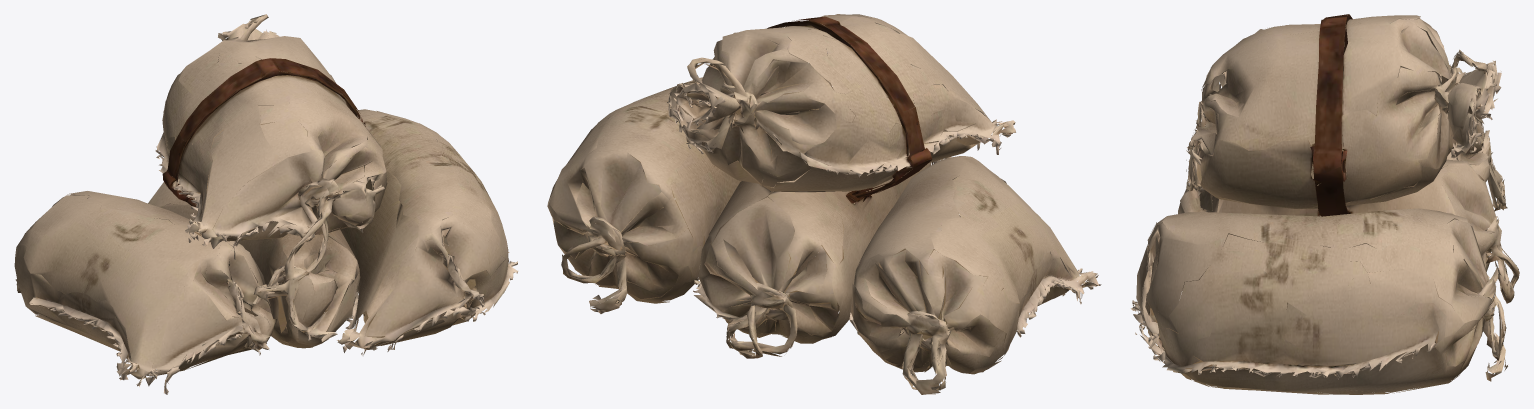
File: sacos_monton.glb
The picture shows the model from 3 angles, left to right: view 1: azimuth 30°, elevation 25°; view 2: azimuth 150°, elevation 25°; view 3: azimuth 270°, elevation 25°; orthographic projection. The views are drawn at different scales.
Visible parts, largest first — view 1: geometry_0; view 2: geometry_0; view 3: geometry_0.
Boxes of the visible parts, x1,y1,x2,y2 form: geometry_0: (14,14,518,394); geometry_0: (547,14,1101,394); geometry_0: (1130,14,1519,394).
Bounding box in the file's own units: 1.3 × 0.75 × 0.9041.
Materials: 1 (1 with a texture image).
